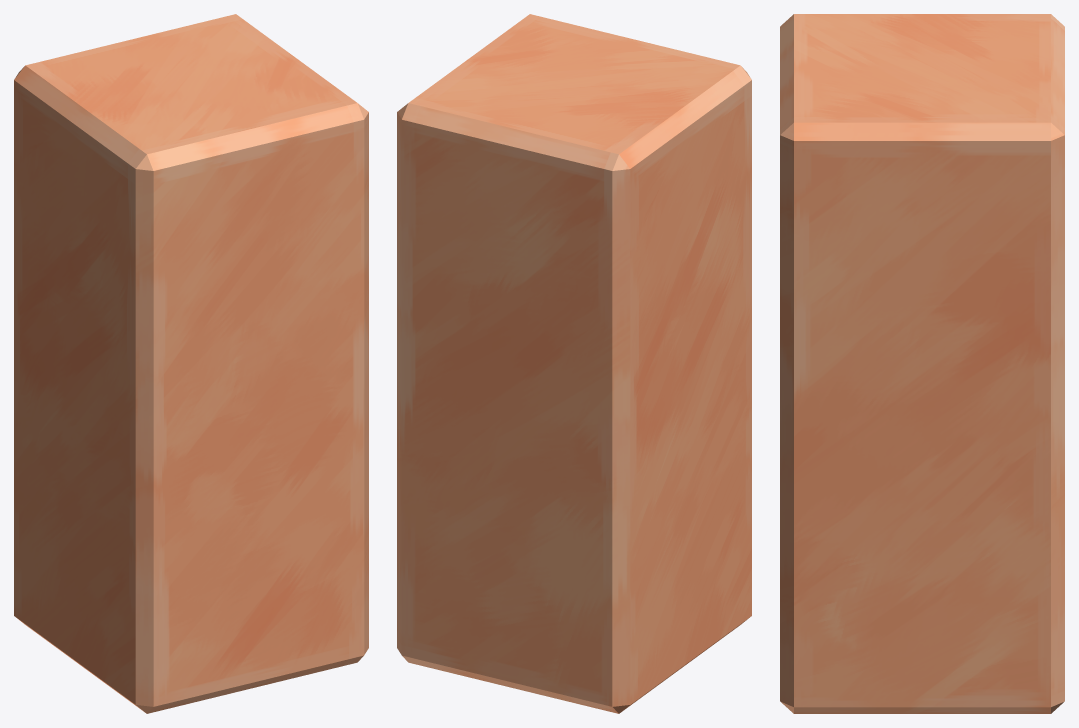
File: parapet_corner.fbx
3 views of the same model, side by side, from view 1: azimuth 30°, elevation 25°; view 2: azimuth 150°, elevation 25°; view 3: azimuth 270°, elevation 25° (orthographic). The views are drawn at different scales.
Parts seen in each view (by area): view 1: parapet_corner; view 2: parapet_corner; view 3: parapet_corner.
Part boxes in pixels (x1=…): parapet_corner: x1=14, y1=14, x2=368, y2=713; parapet_corner: x1=397, y1=14, x2=751, y2=713; parapet_corner: x1=780, y1=14, x2=1064, y2=713.
Size of the model in its own units: 1.44 by 3.3 by 1.44.
Materials: 1 (1 with a texture image).
